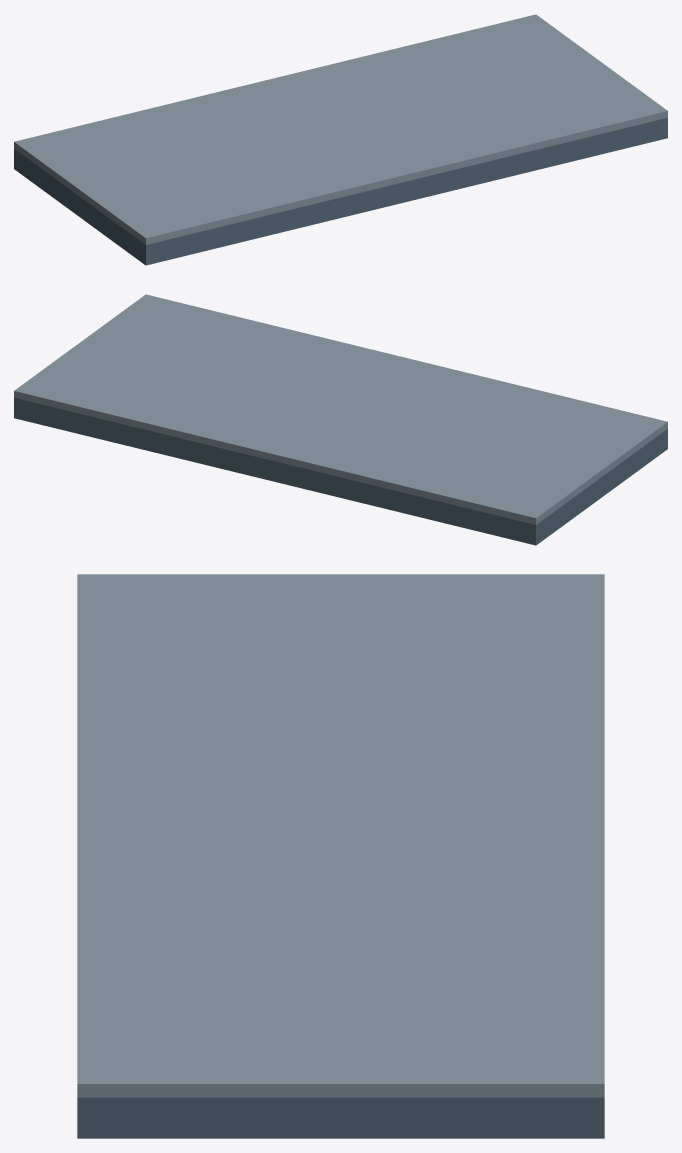
File: TS-632.00.000-02-plita-dielektricheskaya-70x160.glb
3 views of the same model, one above another, from view 1: azimuth 30°, elevation 25°; view 2: azimuth 150°, elevation 25°; view 3: azimuth 270°, elevation 25° (orthographic). The views are drawn at different scales.
Visible parts, largest first — view 1: prokladka, plita; view 2: prokladka, plita; view 3: prokladka, plita.
Part boxes in pixels (box(x1,y1,x2,y2)): prokladka: box(14, 14, 667, 244); plita: box(14, 118, 667, 265); prokladka: box(14, 294, 667, 524); plita: box(14, 398, 667, 545); prokladka: box(77, 574, 604, 1097); plita: box(77, 1097, 604, 1138).
Size of the model in its own units: 160 by 8 by 70.
